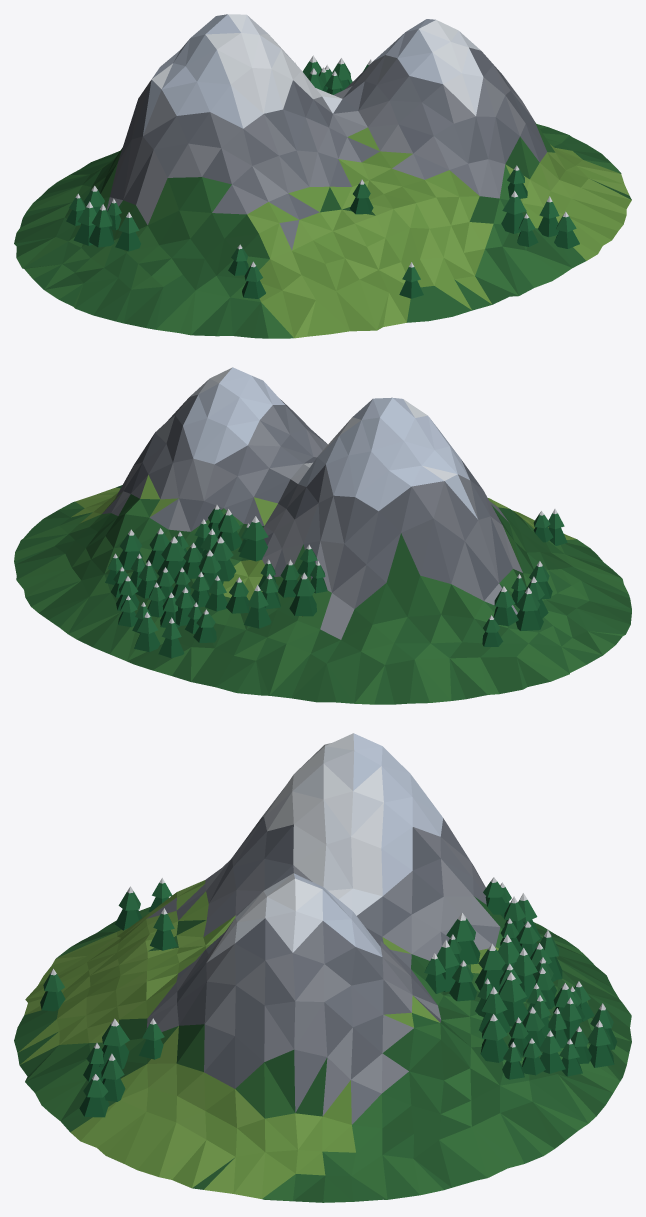
Rendered from alps-mountain-1.glb.
The picture shows the model from 3 angles, top to bottom: view 1: azimuth 30°, elevation 25°; view 2: azimuth 150°, elevation 25°; view 3: azimuth 270°, elevation 25°; orthographic projection. The views are drawn at different scales.
Visible parts, largest first — view 1: AlpsMountain1; view 2: AlpsMountain1; view 3: AlpsMountain1.
Part boxes in pixels (x1=…): AlpsMountain1: x1=14, y1=14, x2=631, y2=338; AlpsMountain1: x1=14, y1=367, x2=631, y2=704; AlpsMountain1: x1=14, y1=733, x2=631, y2=1202.
Bounding box in the file's own units: 0.9993 × 0.3735 × 0.8048.
